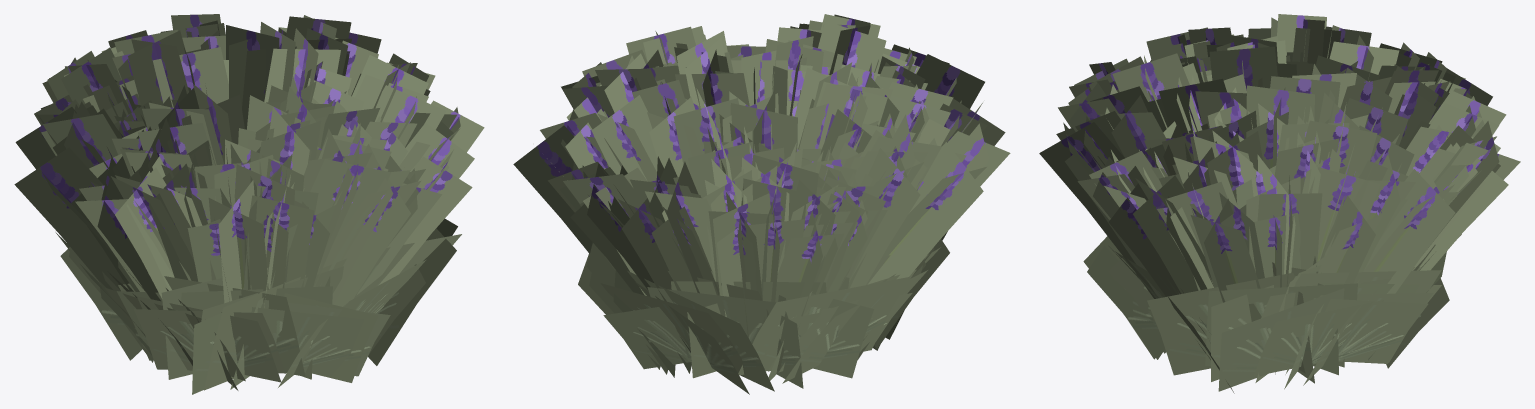
3 renders of one model, left to right at view 1: azimuth 30°, elevation 25°; view 2: azimuth 150°, elevation 25°; view 3: azimuth 270°, elevation 25°, orthographic. The views are drawn at different scales.
Visible parts, largest first — view 1: leaves_0; view 2: leaves_0; view 3: leaves_0.
Boxes of the visible parts, left/top/right/bottom form: leaves_0: left=14, top=14, right=484, bottom=394; leaves_0: left=513, top=14, right=1010, bottom=394; leaves_0: left=1039, top=14, right=1520, bottom=393.
Size of the model in its own units: 0.8597 by 0.5691 by 0.8698.
Materials: 1 (1 with a texture image).
